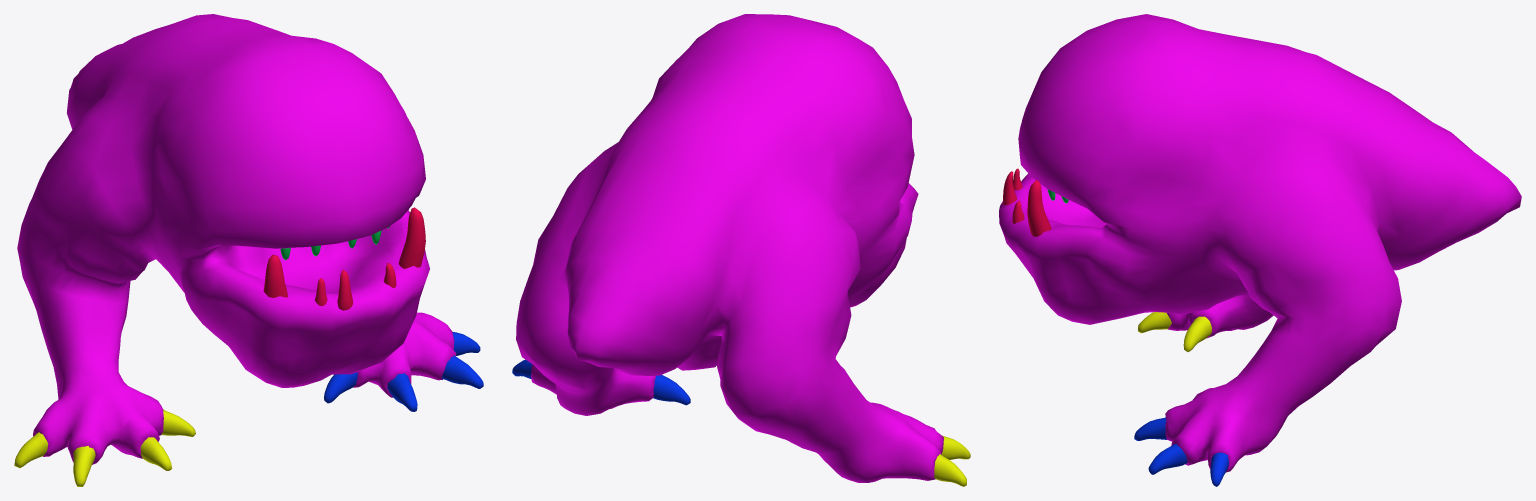
Rendered from creature_low.fbx.
The picture shows the model from 3 angles, left to right: view 1: azimuth 30°, elevation 25°; view 2: azimuth 150°, elevation 25°; view 3: azimuth 270°, elevation 25°; orthographic projection. The views are drawn at different scales.
Visible parts, largest first — view 1: body_low, bottomteeth_low, rightclaws_low, leftclaws_low; view 2: body_low, rightclaws_low, leftclaws_low; view 3: body_low, leftclaws_low, bottomteeth_low, rightclaws_low.
Part boxes in pixels (bbox=[...]): body_low: bbox=[17, 14, 456, 464]; bottomteeth_low: bbox=[263, 207, 425, 310]; rightclaws_low: bbox=[14, 409, 195, 486]; leftclaws_low: bbox=[324, 331, 483, 411]; body_low: bbox=[516, 14, 943, 482]; rightclaws_low: bbox=[933, 435, 970, 486]; leftclaws_low: bbox=[512, 359, 690, 405]; body_low: bbox=[999, 14, 1521, 472]; leftclaws_low: bbox=[1134, 417, 1228, 486]; bottomteeth_low: bbox=[1003, 168, 1051, 236]; rightclaws_low: bbox=[1138, 312, 1211, 351].
Bounding box in the file's own units: 14.27 × 11.48 × 15.18.
